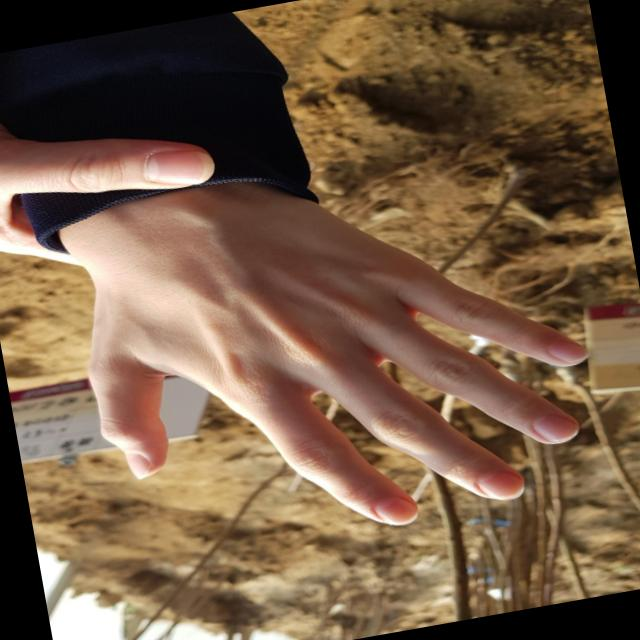Nail: (144, 151, 215, 184), (476, 468, 524, 500), (370, 494, 419, 525), (531, 411, 577, 440), (546, 337, 588, 361), (123, 450, 150, 477)
